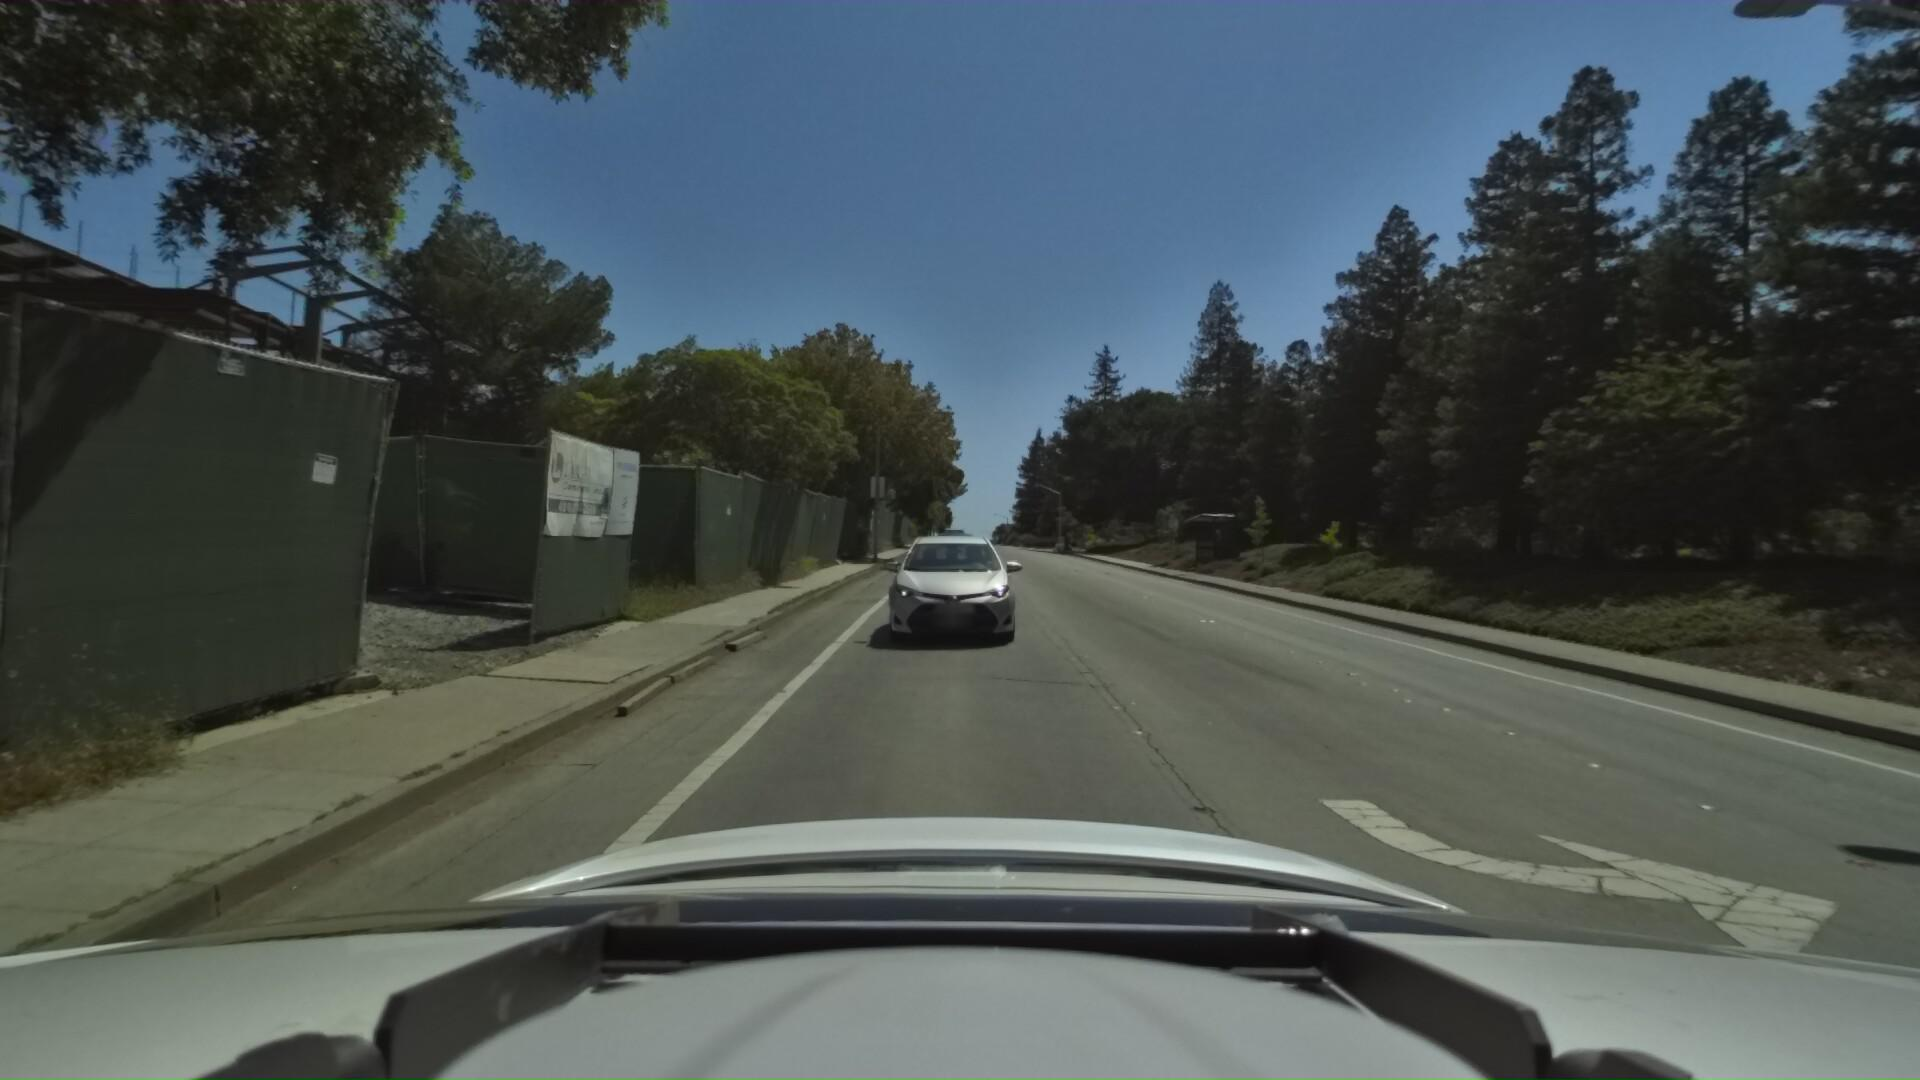car: (877, 513, 1026, 647), (924, 525, 980, 578)
